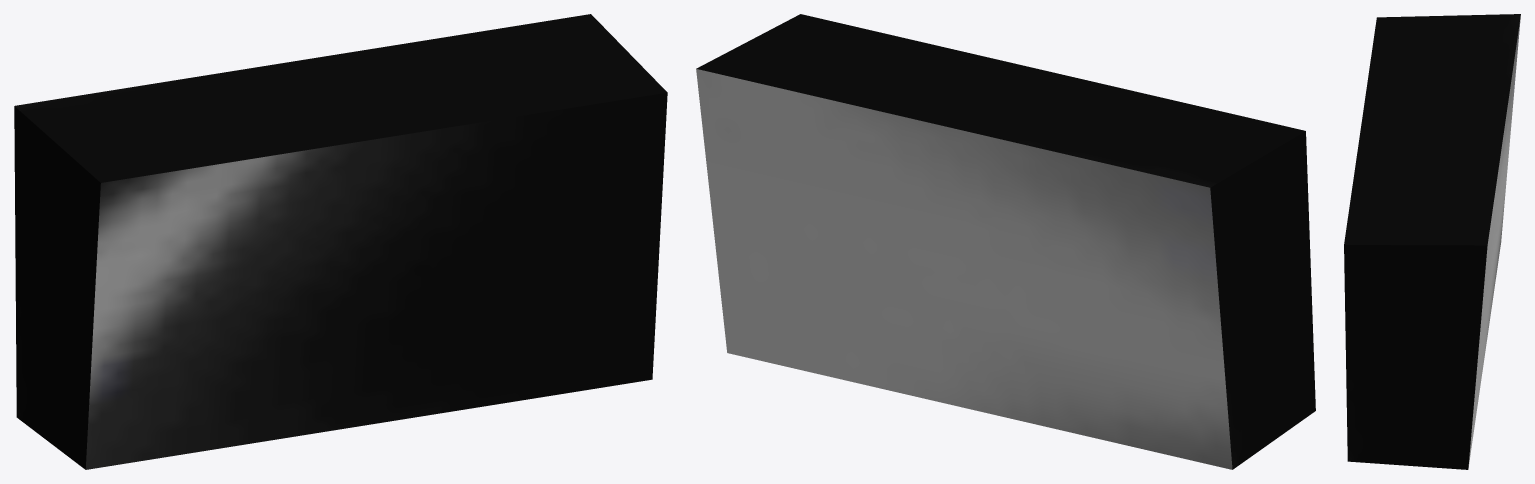
Rendered from 0506_zhuantou.glb.
The picture shows the model from 3 angles, left to right: view 1: azimuth 30°, elevation 25°; view 2: azimuth 150°, elevation 25°; view 3: azimuth 270°, elevation 25°; orthographic projection. The views are drawn at different scales.
Bounding box in the file's own units: 2.2 × 1.2 × 0.7573.
Materials: 1 (1 with a texture image).
